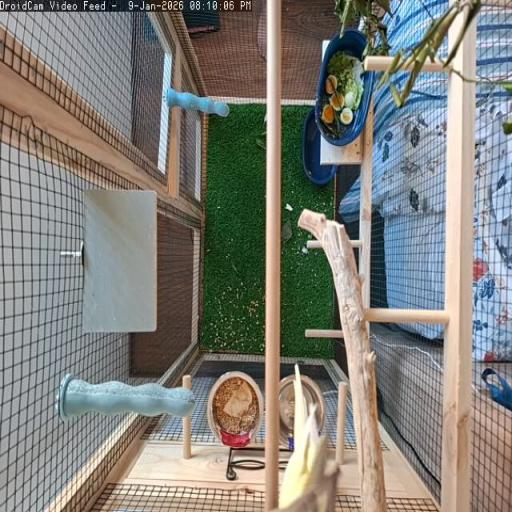bebedero: (301, 372, 326, 430), (279, 374, 294, 449)
comedero: (209, 373, 262, 447)
ninfa: (278, 365, 338, 511)
